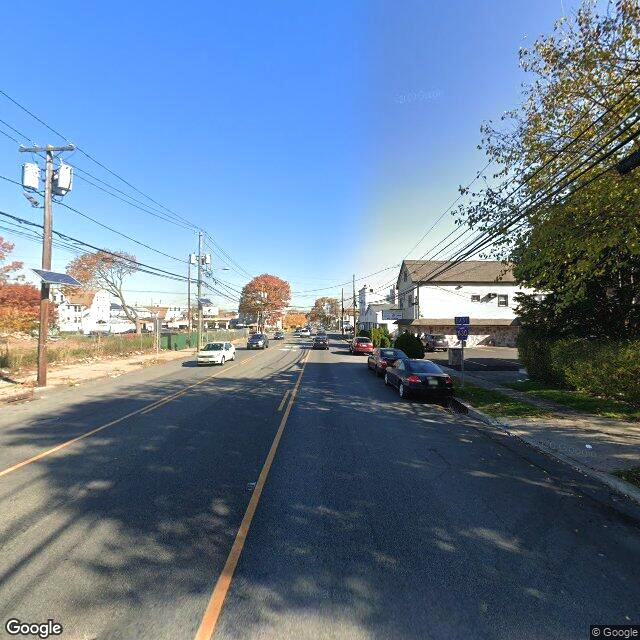pothole: (586, 497, 640, 535)
